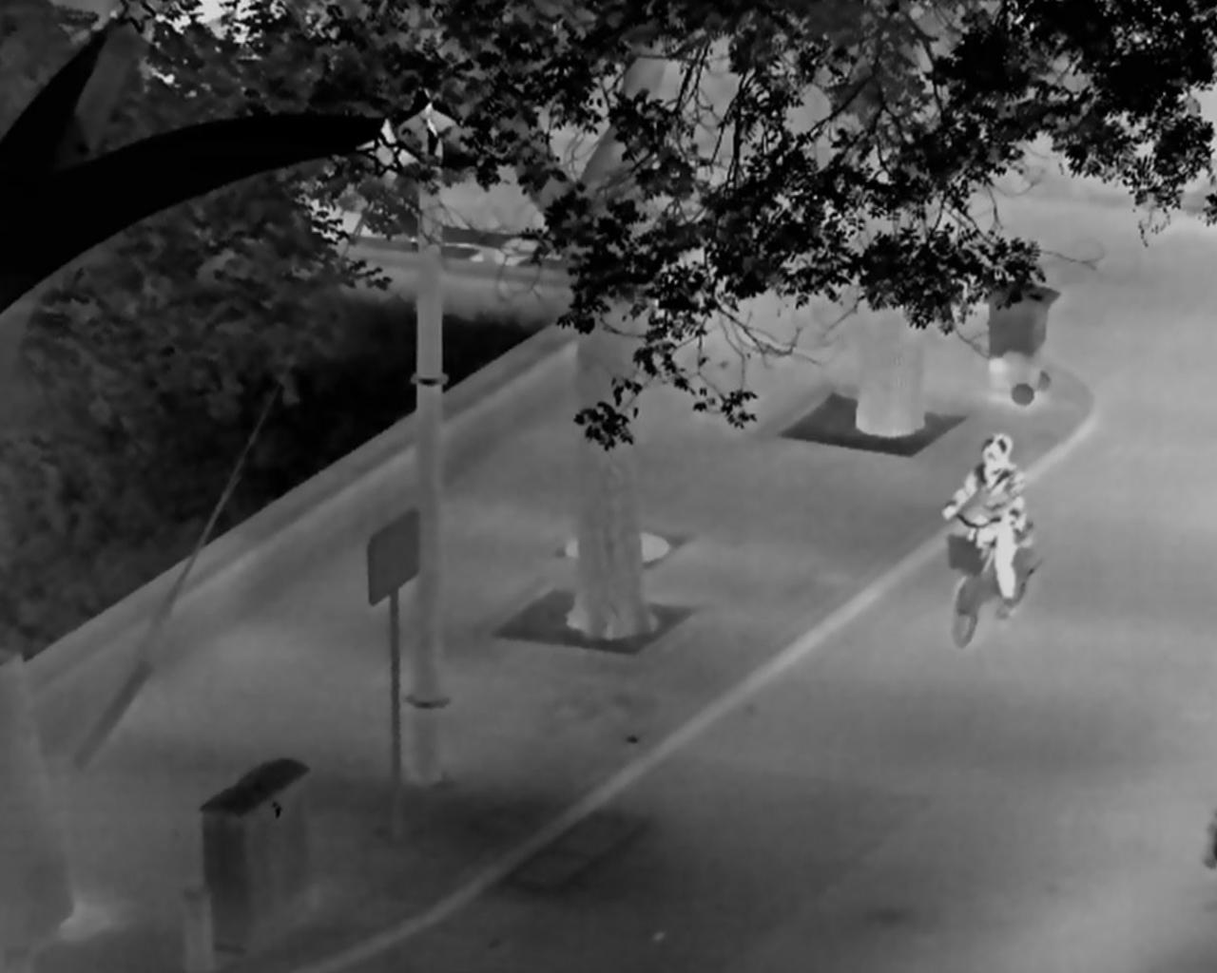person: (938, 431, 1029, 621)
